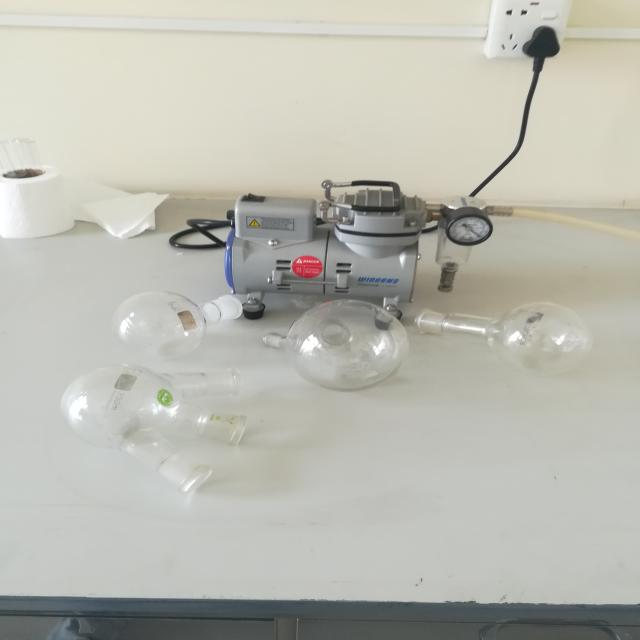Round_Bottom_Flask_Borosilicate_Glass_1_Neck: (414, 270, 606, 387), (106, 263, 287, 372)
Round_Bottom_Flask_Borosilicate_Glass_2_Neck: (248, 278, 428, 409)
Round_Bottom_Flask_Borosilicate_Glass_3_Neck: (35, 352, 282, 515)
